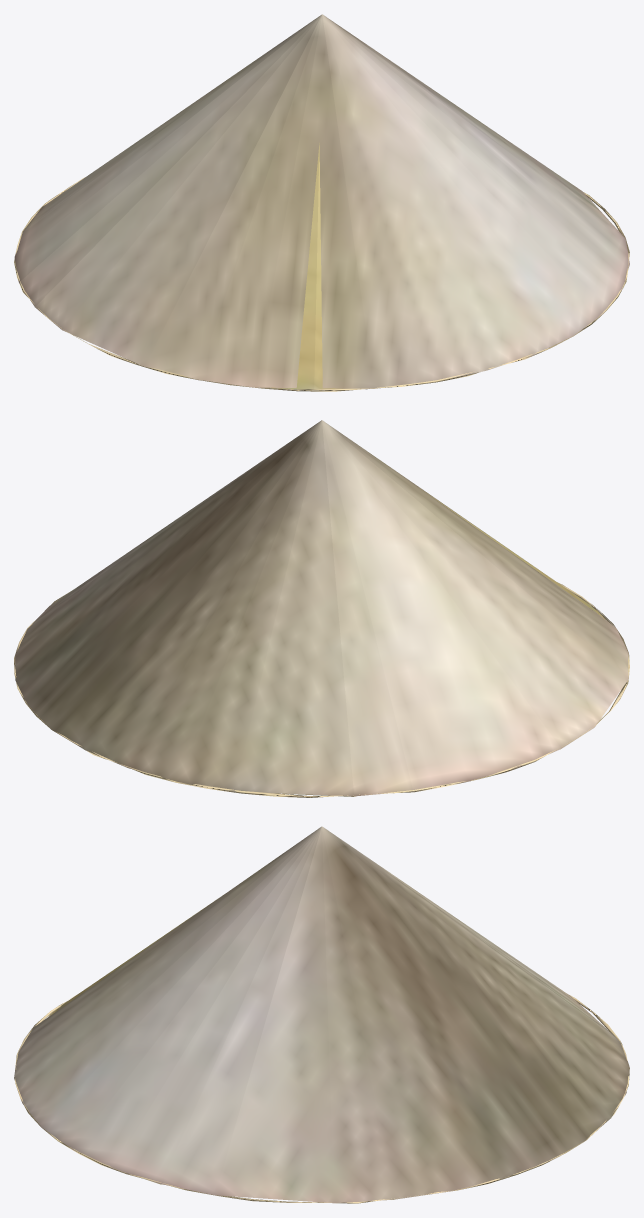
The model's file is non-la.glb.
The picture shows the model from 3 angles, top to bottom: view 1: azimuth 30°, elevation 25°; view 2: azimuth 150°, elevation 25°; view 3: azimuth 270°, elevation 25°; orthographic projection.
Visible parts, largest first — view 1: Cone, Torus.003; view 2: Cone, Torus.003; view 3: Cone, Torus.003.
Part boxes in pixels (bbox=[...]): Cone: bbox=[14, 14, 629, 390]; Torus.003: bbox=[14, 177, 629, 391]; Cone: bbox=[15, 420, 628, 796]; Torus.003: bbox=[14, 582, 629, 797]; Cone: bbox=[14, 826, 629, 1203]; Torus.003: bbox=[15, 995, 629, 1203].
Bounding box in the file's own units: 0.9989 × 0.444 × 0.9981.
3 materials, 3 textured.
